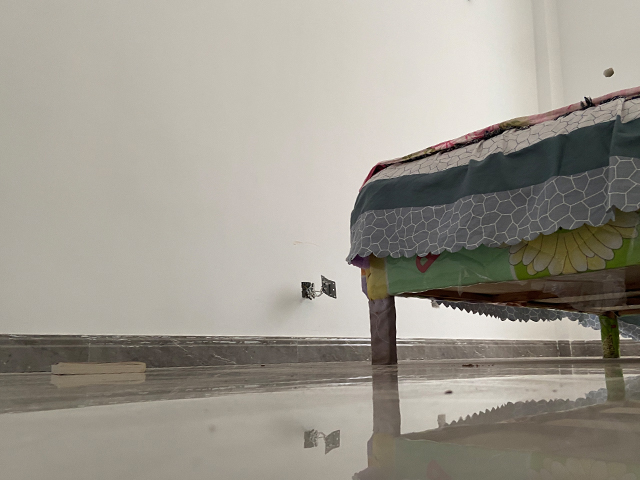bed: (344, 85, 640, 366)
book: (49, 361, 147, 374)
